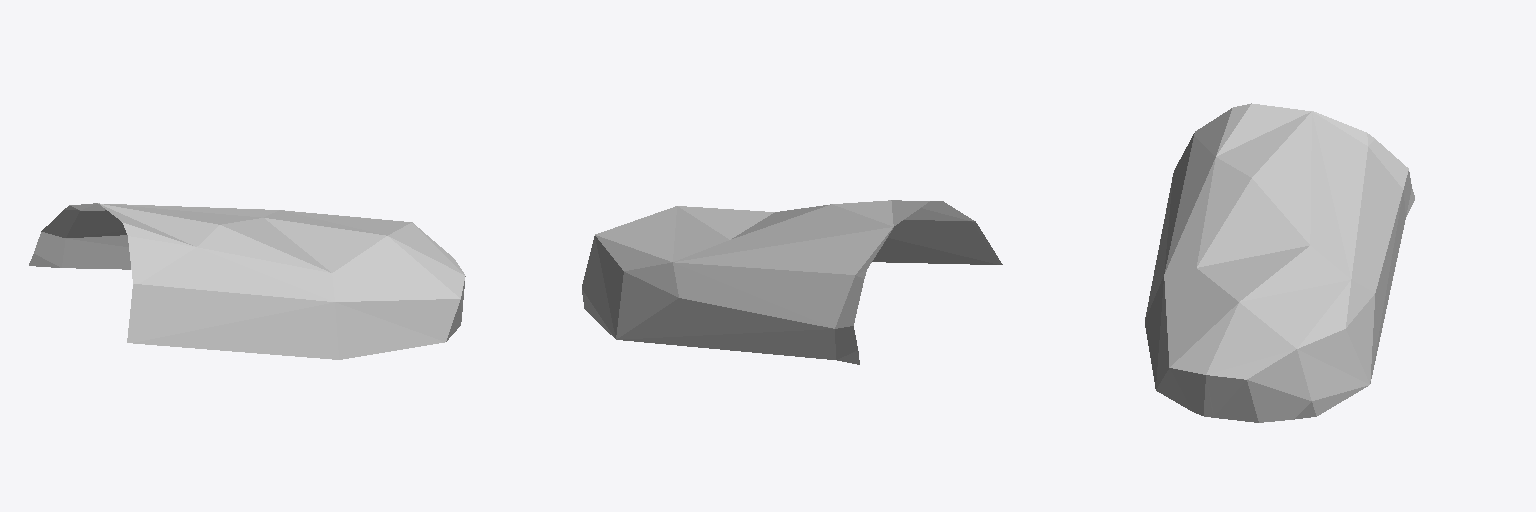
File: HAND_new_25_formatting.obj
3 views of the same model, side by side, from view 1: azimuth 30°, elevation 25°; view 2: azimuth 150°, elevation 25°; view 3: azimuth 270°, elevation 25° (orthographic).
Size of the model in its own units: 15.76 by 6.65 by 10.16.